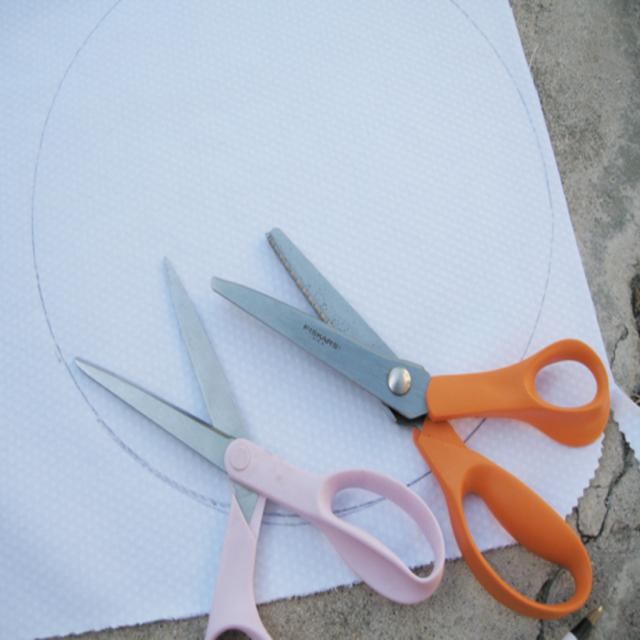scissors: (210, 226, 610, 620), (72, 253, 446, 639)
